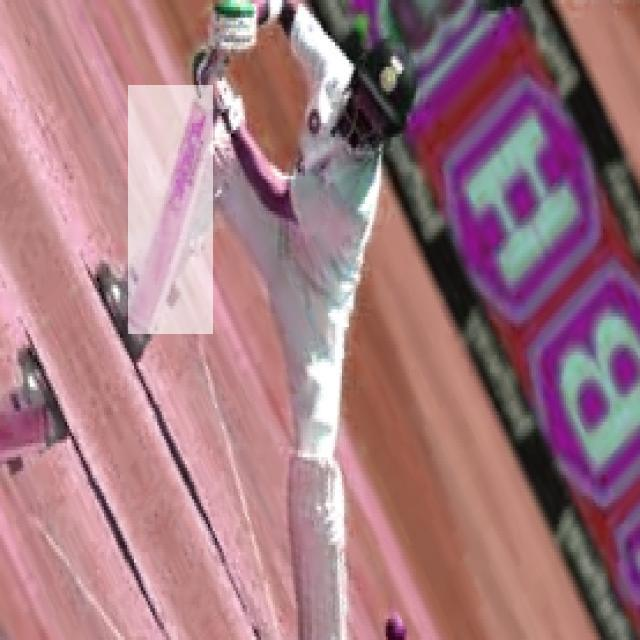bat: (130, 84, 213, 335)
